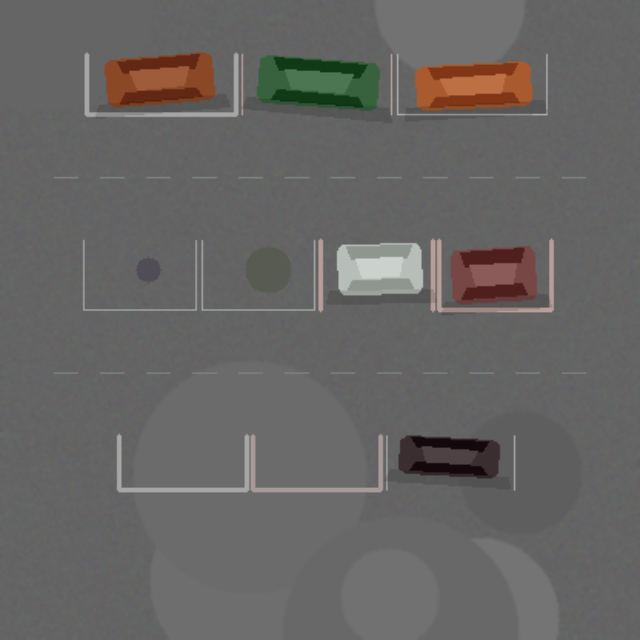space-empty: (83, 240, 195, 309), (202, 240, 314, 309), (118, 435, 246, 489), (252, 435, 380, 489)
space-occupied: (86, 54, 235, 114), (242, 54, 391, 114), (397, 54, 546, 114), (438, 240, 551, 309), (320, 240, 432, 309), (386, 435, 514, 489)
